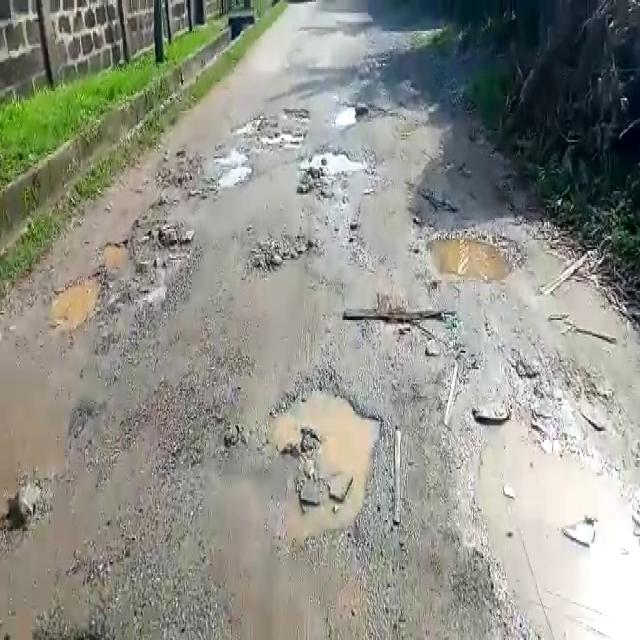Pothole: (470, 427, 640, 640), (267, 386, 384, 540), (106, 214, 194, 290), (421, 224, 531, 284), (46, 268, 102, 331), (244, 230, 322, 272), (295, 146, 369, 182), (212, 152, 254, 192)
